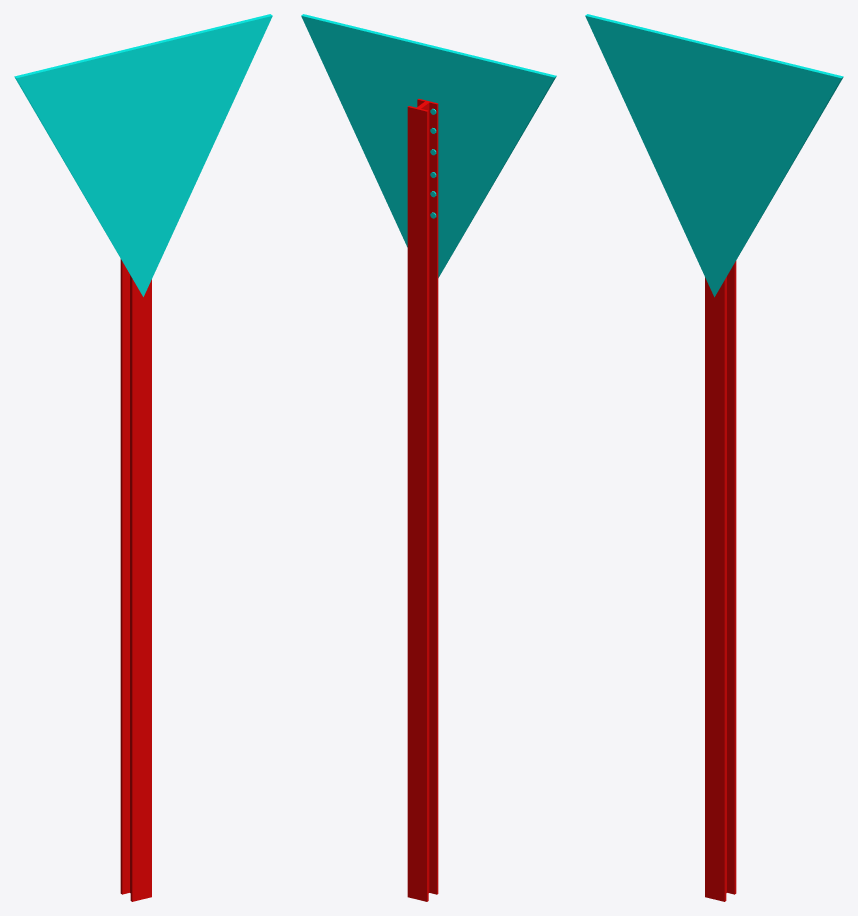
Rendered from YieldSign.fbx.
3 renders of one model, left to right at view 1: azimuth 30°, elevation 25°; view 2: azimuth 150°, elevation 25°; view 3: azimuth 330°, elevation 25°, orthographic.
Parts seen in each view (by area): view 1: Pyramid, Cube; view 2: Pyramid, Cube; view 3: Pyramid, Cube.
Part boxes in pixels (x1,y1,x2,y2): Pyramid: (14,14,272,296); Cube: (120,259,151,901); Pyramid: (301,14,556,277); Cube: (407,99,438,901); Pyramid: (585,14,843,297); Cube: (705,261,736,901).
Bounding box in the file's own units: 82.33 × 262 × 7.52.
